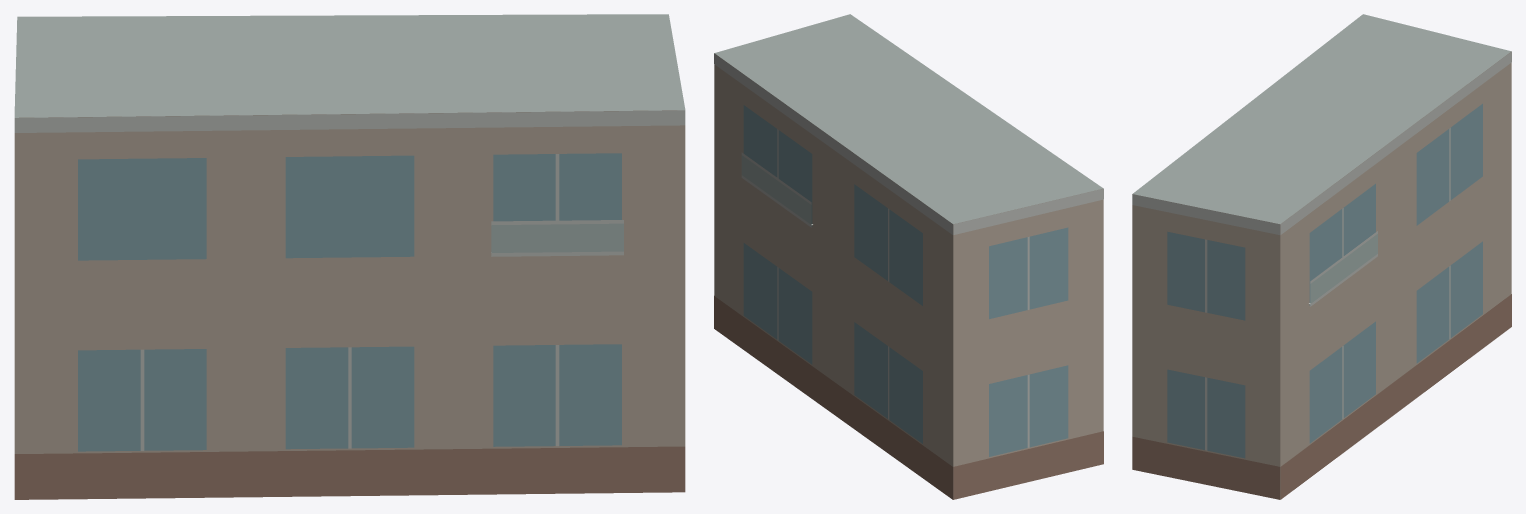
Rendered from survey-upis-32990779.glb.
The picture shows the model from 3 angles, left to right: view 1: azimuth 30°, elevation 25°; view 2: azimuth 150°, elevation 25°; view 3: azimuth 270°, elevation 25°; orthographic projection. The views are drawn at different scales.
Visible parts, largest first — view 1: survey-upis-32990779.tmp; view 2: survey-upis-32990779.tmp; view 3: survey-upis-32990779.tmp.
Boxes of the visible parts, x1=… form: survey-upis-32990779.tmp: x1=14, y1=14, x2=685, y2=499; survey-upis-32990779.tmp: x1=714, y1=14, x2=1103, y2=499; survey-upis-32990779.tmp: x1=1132, y1=14, x2=1511, y2=499.
Bounding box in the file's own units: 9.99 × 6.1 × 7.62.
